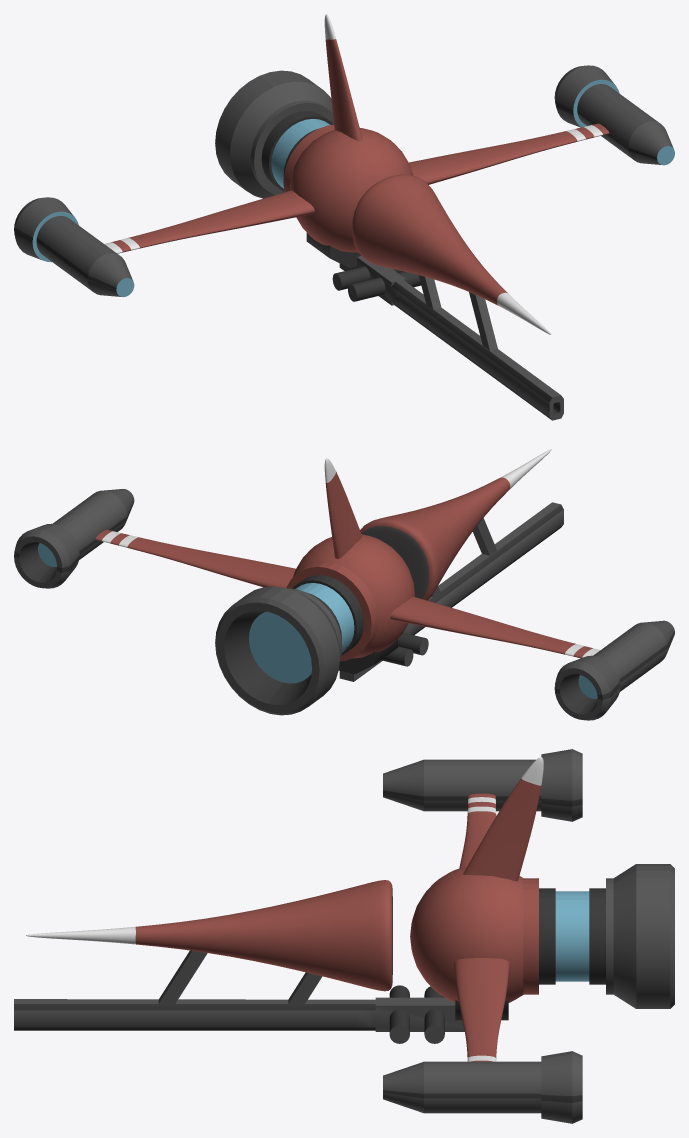
The model's file is sinestro_1.glb.
3 views of the same model, one above another, from view 1: azimuth 30°, elevation 25°; view 2: azimuth 150°, elevation 25°; view 3: azimuth 270°, elevation 25° (orthographic). The views are drawn at different scales.
Visible parts, largest first — view 1: Cylinder.005, Cube.027; view 2: Cylinder.005, Cube.027; view 3: Cylinder.005, Cube.027.
Part boxes in pixels (box(x1,y1,x2,y2)): Cylinder.005: box(14, 14, 674, 420); Cube.027: box(352, 174, 551, 350); Cylinder.005: box(14, 458, 674, 720); Cube.027: box(360, 449, 551, 600); Cylinder.005: box(14, 749, 674, 1123); Cube.027: box(26, 880, 392, 1003).
Bounding box in the file's own units: 15.18 × 5.76 × 12.74.
